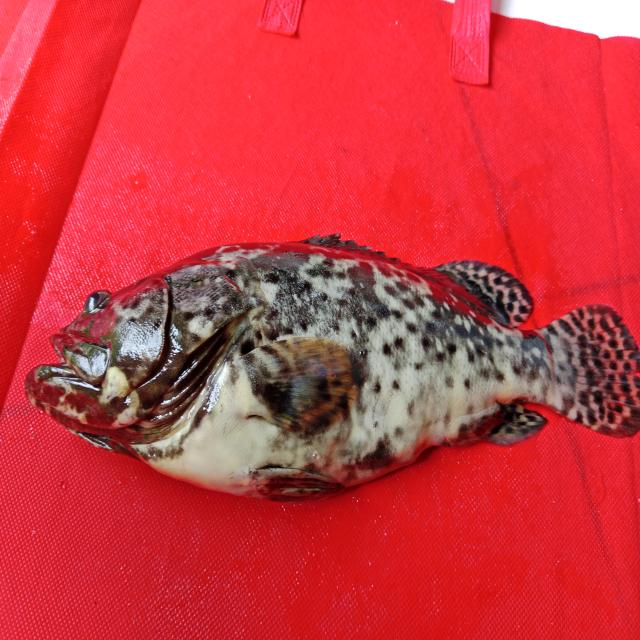ikan: (12, 216, 633, 516)
